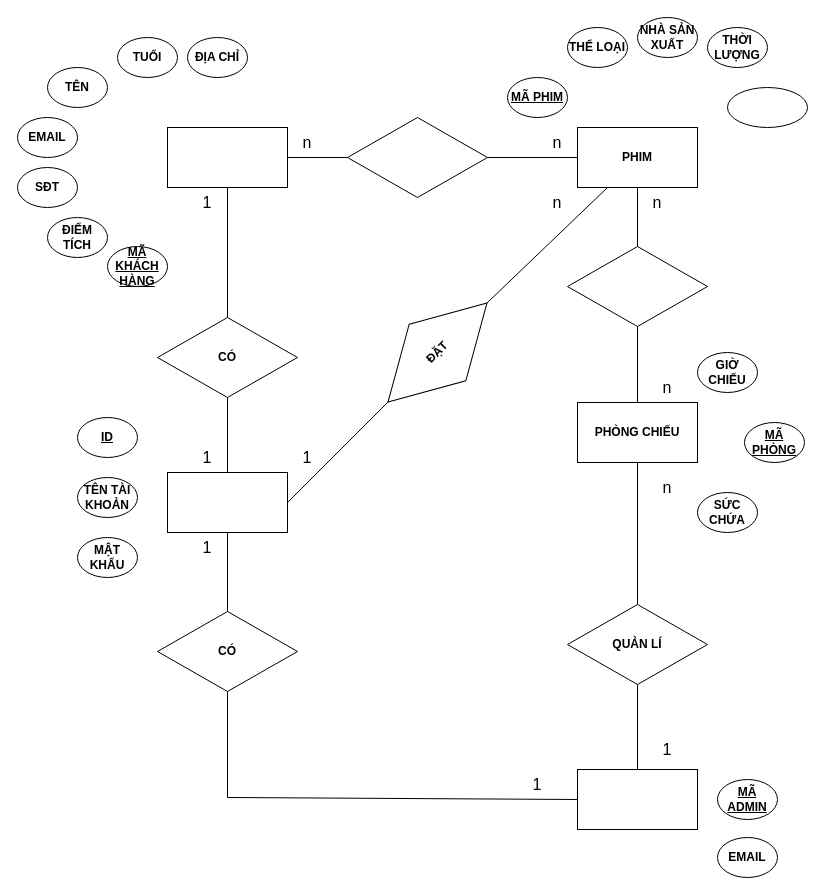
Some shapes in this 825 by 895 pixel diagram are drawn without their labels. The shapes that lost their labels are listed below. From the top down, each one's box as (x1, y1, x2, y2) in pixels, then its label:
(726, 86, 808, 128): ĐỘ TUỔI CHO PHÉP
(166, 126, 288, 188): KHÁCH HÀNG
(346, 116, 488, 198): XEM
(566, 246, 708, 326): CHIẾU
(166, 472, 288, 532): TÀI KHOẢN
(576, 768, 698, 830): ADMIN
